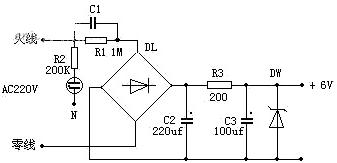bridge: (99, 51, 175, 124)
cap1: (66, 77, 83, 94), (87, 15, 100, 31), (179, 114, 195, 127), (239, 115, 255, 126)
diode: (267, 105, 290, 131)
res1: (82, 35, 109, 47), (205, 80, 234, 91), (69, 45, 79, 70)
